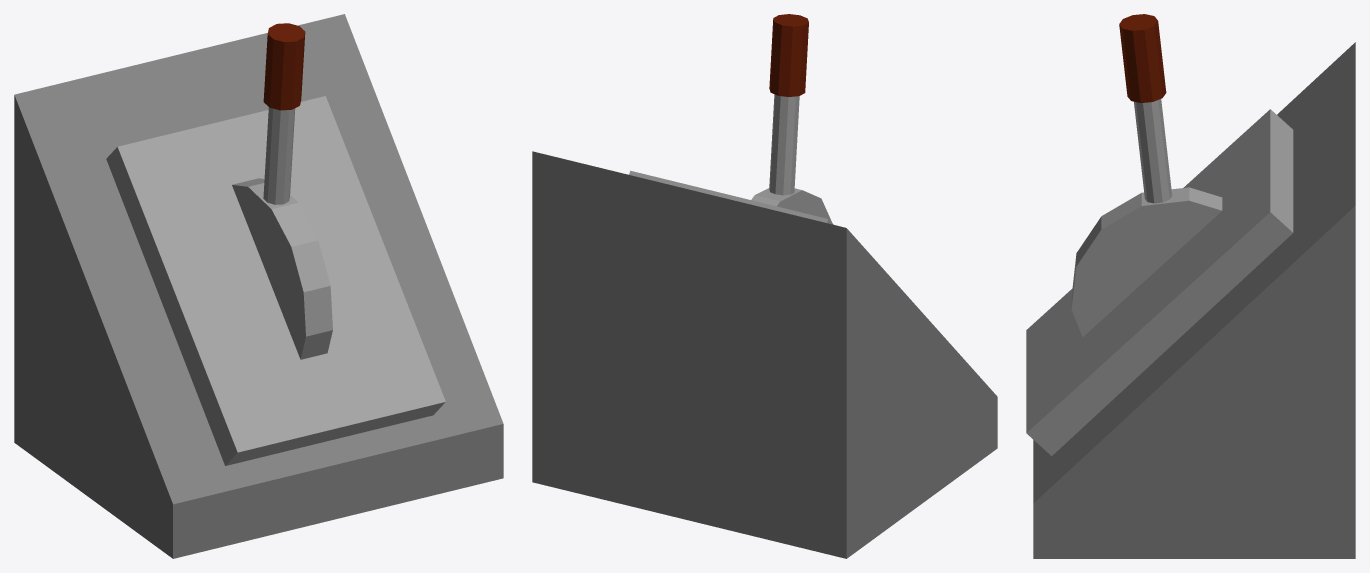
The model's file is Alavanca.fbx.
3 views of the same model, side by side, from view 1: azimuth 30°, elevation 25°; view 2: azimuth 150°, elevation 25°; view 3: azimuth 270°, elevation 25° (orthographic). The views are drawn at different scales.
Visible parts, largest first — view 1: Alavanca; view 2: Alavanca; view 3: Alavanca.
Boxes of the visible parts, bbox=[...] form: Alavanca: bbox=[14, 14, 503, 558]; Alavanca: bbox=[532, 14, 997, 558]; Alavanca: bbox=[1026, 14, 1355, 558].
Size of the model in its own units: 24.5 by 31.87 by 20.84.
Materials: 1 (1 with a texture image).
